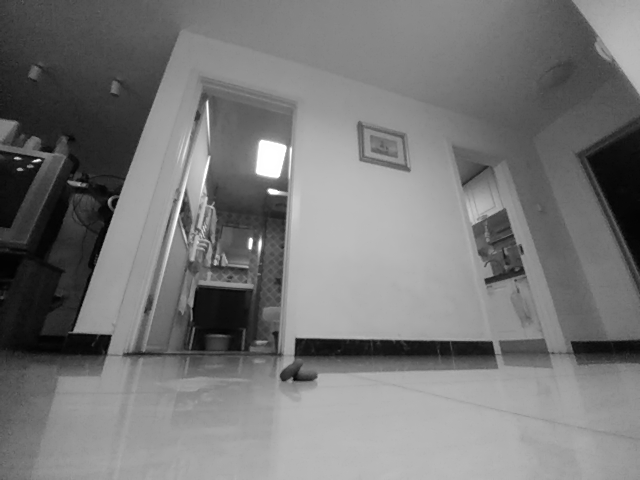pet feces: (279, 358, 319, 384)
